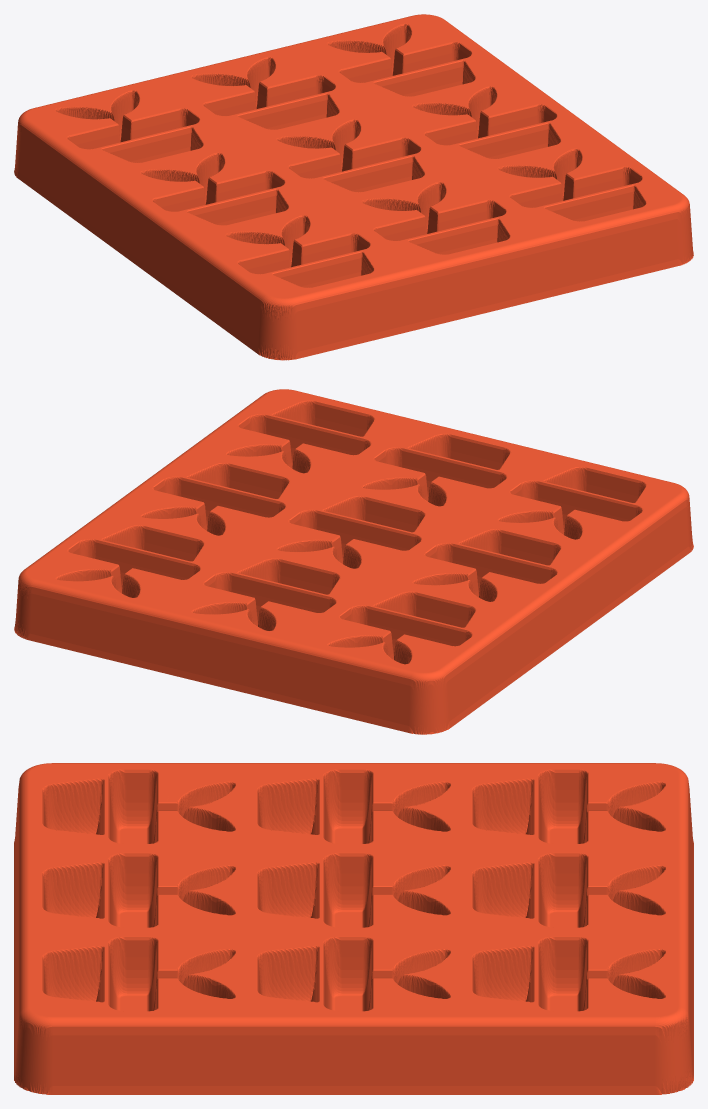
File: mold.glb
The picture shows the model from 3 angles, top to bottom: view 1: azimuth 30°, elevation 25°; view 2: azimuth 150°, elevation 25°; view 3: azimuth 270°, elevation 25°; orthographic projection. The views are drawn at different scales.
Parts seen in each view (by area): view 1: geometry_0; view 2: geometry_0; view 3: geometry_0.
Boxes of the visible parts, x1,y1,x2,y2 form: geometry_0: (14, 14, 693, 360); geometry_0: (14, 389, 693, 734); geometry_0: (14, 763, 693, 1094).
Size of the model in its own units: 0.1475 by 0.0185 by 0.1595.
